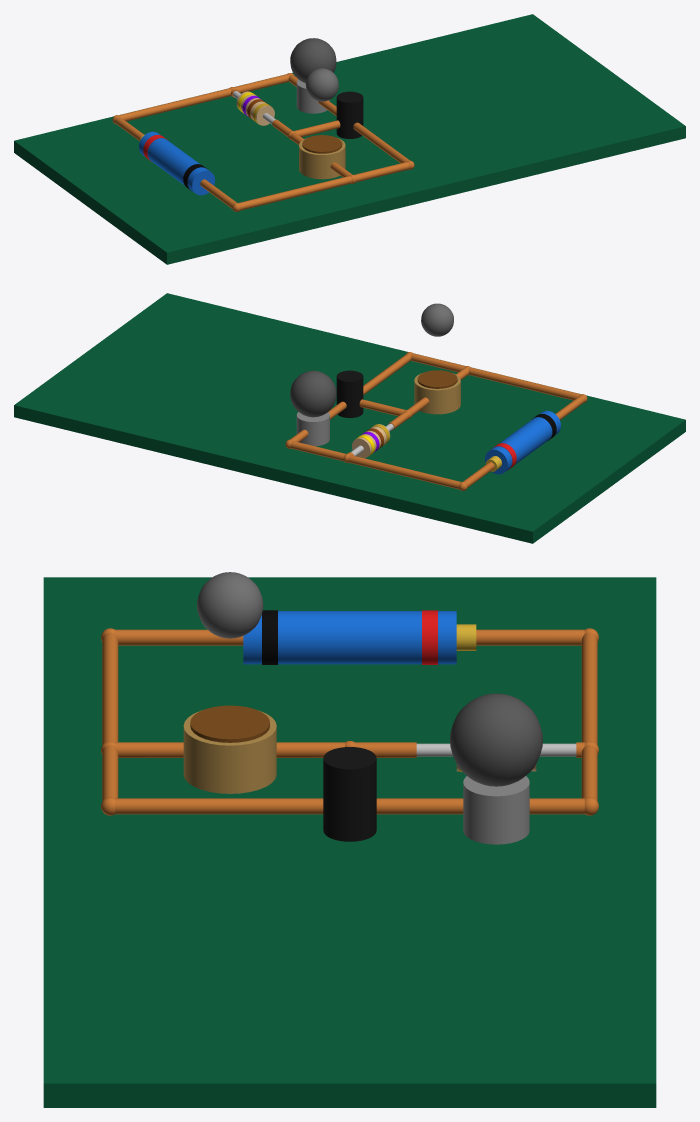
The model's file is rangkaian_ldr.glb.
3 renders of one model, top to bottom at view 1: azimuth 30°, elevation 25°; view 2: azimuth 150°, elevation 25°; view 3: azimuth 270°, elevation 25°, orthographic. The views are drawn at different scales.
Bounding box in the file's own units: 0.9 × 0.185 × 0.46.
